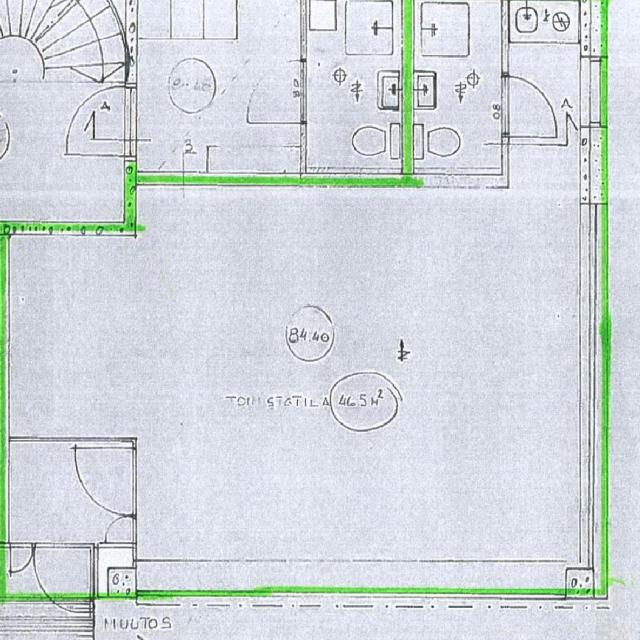door: (73, 447, 136, 515), (32, 542, 87, 610), (502, 77, 560, 137), (10, 542, 32, 572), (110, 516, 136, 541)
